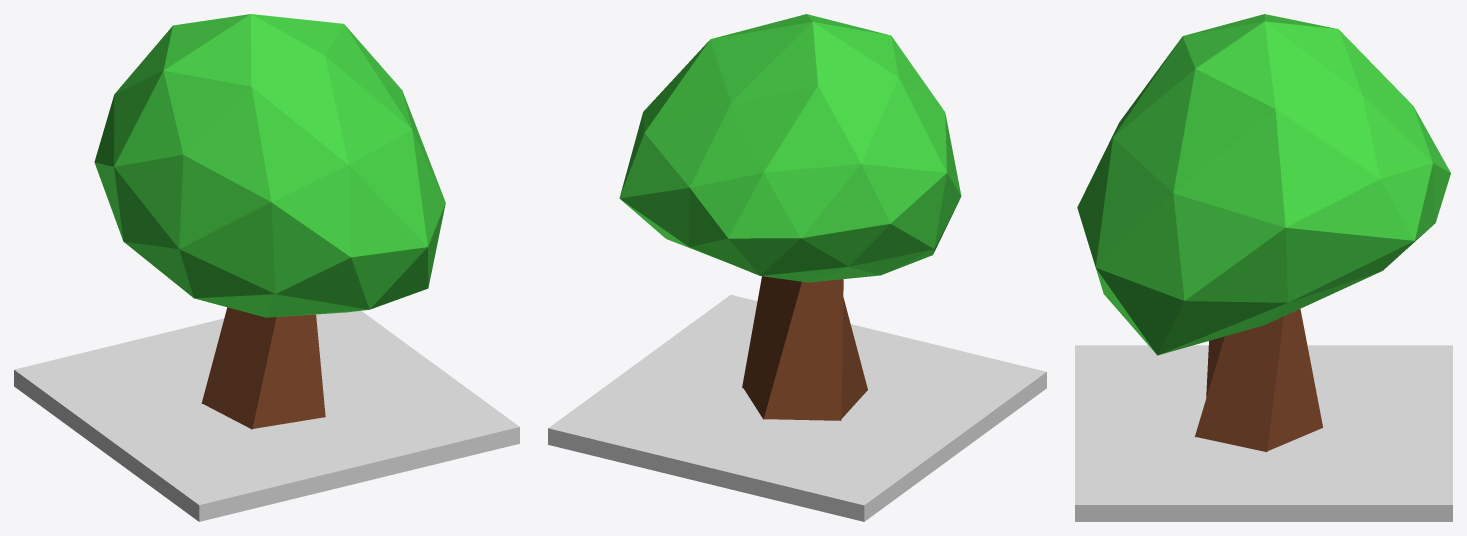
Rendered from Wood_4 06.FBX.
3 views of the same model, side by side, from view 1: azimuth 30°, elevation 25°; view 2: azimuth 150°, elevation 25°; view 3: azimuth 270°, elevation 25° (orthographic). The views are drawn at different scales.
Parts seen in each view (by area): view 1: GeoSphere001, Box005; view 2: GeoSphere001, Box005; view 3: GeoSphere001, Box005.
Part boxes in pixels (<box>): GeoSphere001: <box>94,14,445,429</box>; Box005: <box>14,311,519,521</box>; GeoSphere001: <box>619,14,961,420</box>; Box005: <box>548,295,1046,521</box>; GeoSphere001: <box>1077,14,1450,451</box>; Box005: <box>1075,345,1452,521</box>.
Size of the model in its own units: 1 by 1.21 by 1.
Materials: 2 (2 with a texture image).
